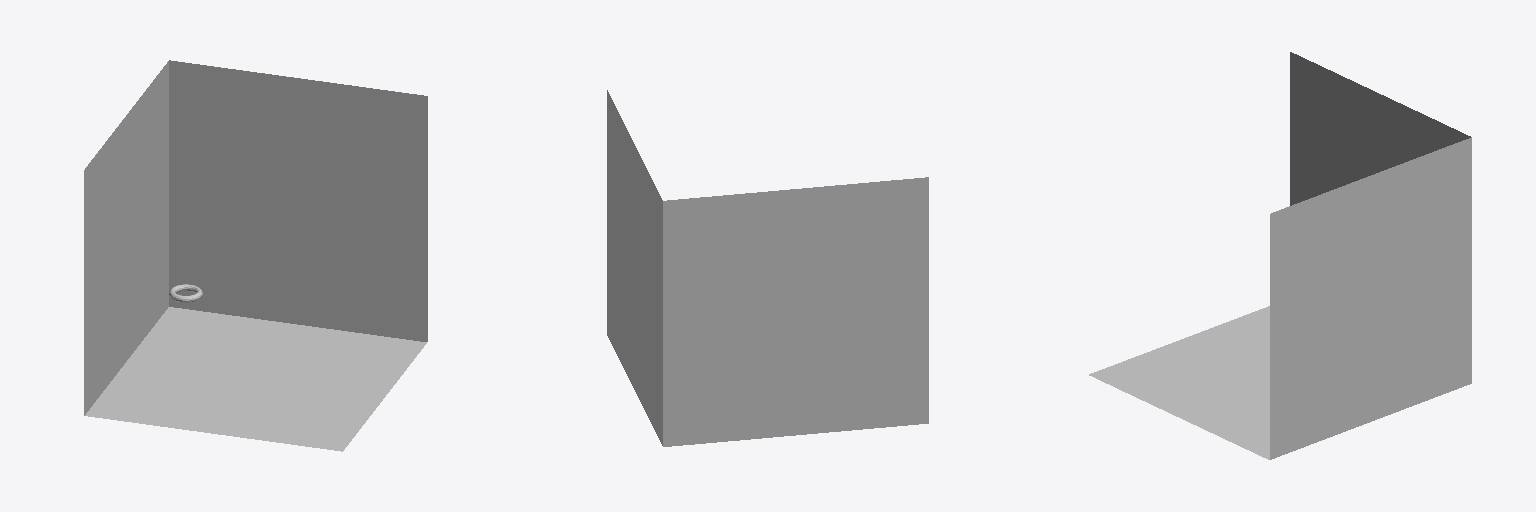
Rendered from lights_scene.obj.
The picture shows the model from 3 angles: view 1: azimuth 30°, elevation 25°; view 2: azimuth 150°, elevation 25°; view 3: azimuth 270°, elevation 25°; orthographic projection.
Parts seen in each view (by area): view 1: Plane.002, Plane, Plane.001_Plane.003; view 2: Plane.001_Plane.003, Plane.002; view 3: Plane.002, Plane, Plane.001_Plane.003.
Part boxes in pixels (bbox=[...]): Plane.002: bbox=[169, 60, 427, 341]; Plane: bbox=[85, 307, 426, 451]; Plane.001_Plane.003: bbox=[84, 61, 168, 415]; Plane.001_Plane.003: bbox=[663, 177, 928, 446]; Plane.002: bbox=[607, 90, 662, 445]; Plane.002: bbox=[1270, 137, 1471, 459]; Plane: bbox=[1089, 306, 1269, 459]; Plane.001_Plane.003: bbox=[1290, 52, 1470, 205].
Size of the model in its own units: 28.24 by 20 by 28.24.